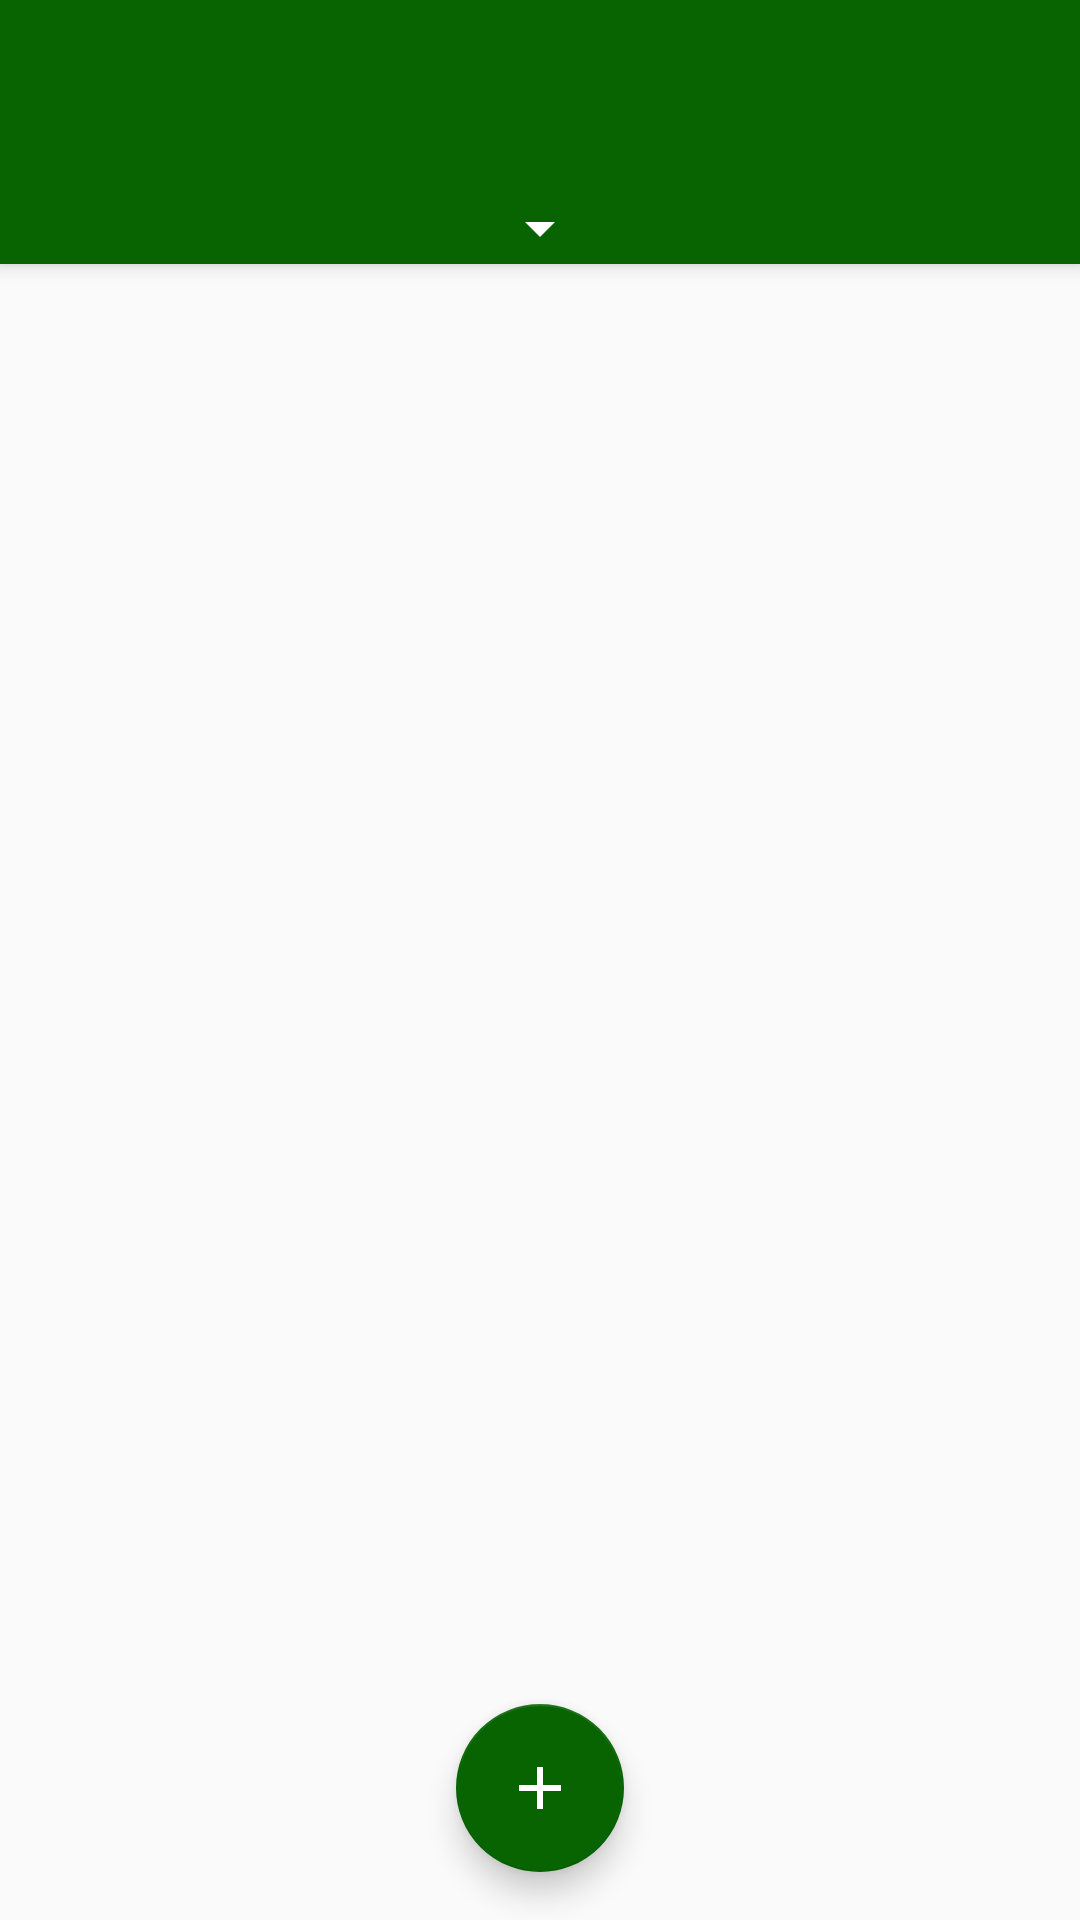

Icon bounding boxes for this 1080px x 1920px phone screenshot, format bbox(x1, y1, x2, y2):
add: bbox(456, 1704, 624, 1872)
